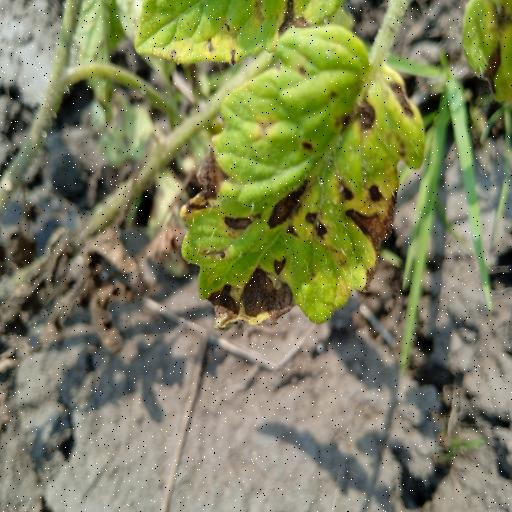Tomato_Brown_Spots: (176, 23, 427, 335)
